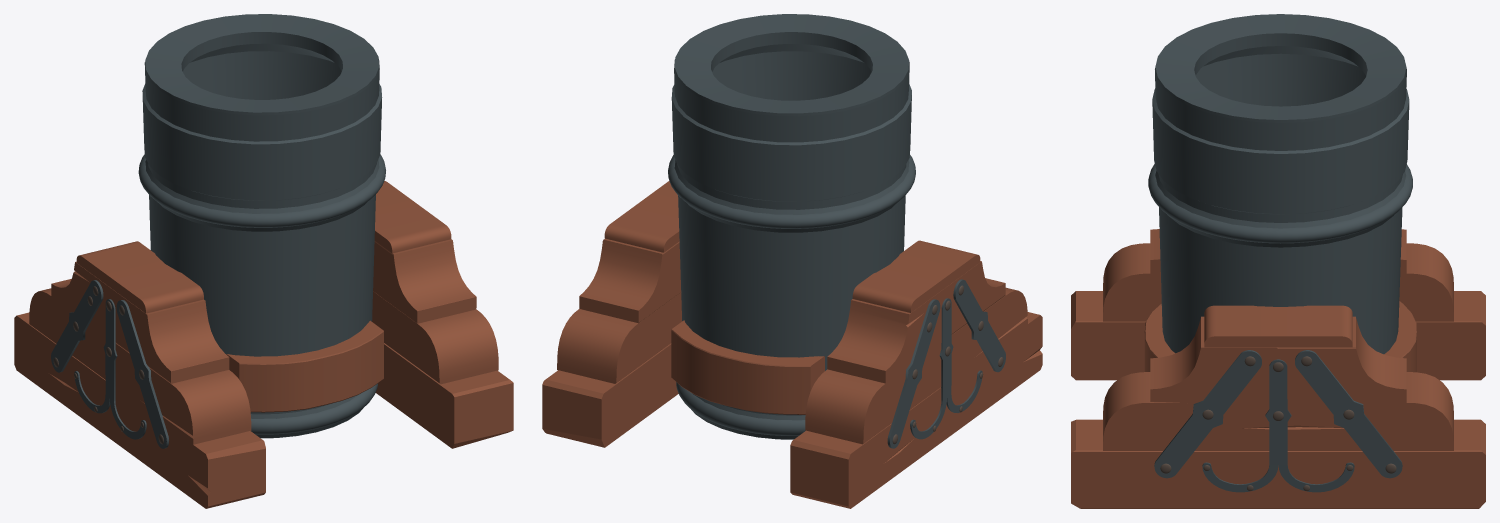
The model's file is MortarC.fbx.
3 views of the same model, side by side, from view 1: azimuth 30°, elevation 25°; view 2: azimuth 150°, elevation 25°; view 3: azimuth 270°, elevation 25° (orthographic). The views are drawn at different scales.
Visible parts, largest first — view 1: Cylinder.004, Cube.001, Cylinder.008, Cube.003, Cube, Cube.004, Cube.006, Torus, Cylinder.014, Cylinder.009, Torus.002, Cylinder.015 (+2 smaller); view 2: Cylinder.004, Cube.001, Cylinder.008, Cube.003, Cube, Cube.002, Cube.004, Torus, Cylinder.014, Cylinder.009, Torus.002, Cylinder.015 (+2 smaller); view 3: Cylinder.004, Cube.001, Cube.003, Cylinder.008, Cube, Cylinder.014, Cube.004, Torus, Cylinder.009, Cylinder.015, Cylinder.016, Cube.002 (+1 smaller).
Boxes of the visible parts, left/top/right/bottom form: Cylinder.004: left=142, top=59, right=382, bottom=438; Cube.001: left=14, top=312, right=513, bottom=508; Cylinder.008: left=145, top=14, right=379, bottom=115; Cube.003: left=29, top=288, right=498, bottom=444; Cube: left=51, top=239, right=476, bottom=383; Cube.004: left=76, top=181, right=451, bottom=313; Cube.006: left=226, top=320, right=383, bottom=412; Torus: left=138, top=154, right=385, bottom=227; Cylinder.014: left=51, top=280, right=168, bottom=448; Cylinder.009: left=145, top=159, right=379, bottom=231; Torus.002: left=251, top=383, right=377, bottom=434; Cylinder.015: left=103, top=299, right=117, bottom=400; Cylinder.004: left=671, top=60, right=911, bottom=439; Cube.001: left=542, top=312, right=1042, bottom=508; Cylinder.008: left=674, top=14, right=909, bottom=116; Cube.003: left=557, top=287, right=1027, bottom=444; Cube: left=579, top=238, right=1005, bottom=383; Cube.002: left=671, top=320, right=824, bottom=414; Cube.004: left=604, top=181, right=980, bottom=312; Torus: left=668, top=155, right=915, bottom=228; Cylinder.014: left=887, top=279, right=1005, bottom=448; Cylinder.009: left=674, top=160, right=909, bottom=232; Torus.002: left=676, top=382, right=805, bottom=435; Cylinder.015: left=939, top=298, right=953, bottom=400; Cylinder.004: left=1152, top=67, right=1409, bottom=354; Cube.001: left=1071, top=291, right=1485, bottom=508; Cube.003: left=1103, top=243, right=1453, bottom=450; Cylinder.008: left=1155, top=14, right=1406, bottom=122; Cube: left=1150, top=229, right=1406, bottom=403; Cylinder.014: left=1154, top=350, right=1402, bottom=478; Cube.004: left=1204, top=305, right=1352, bottom=347; Torus: left=1148, top=164, right=1412, bottom=243; Cylinder.009: left=1155, top=171, right=1406, bottom=247; Cylinder.015: left=1265, top=359, right=1291, bottom=464; Cylinder.016: left=1202, top=462, right=1354, bottom=492; Cube.002: left=1384, top=301, right=1416, bottom=372.
Size of the model in its own units: 715 by 740 by 767.
